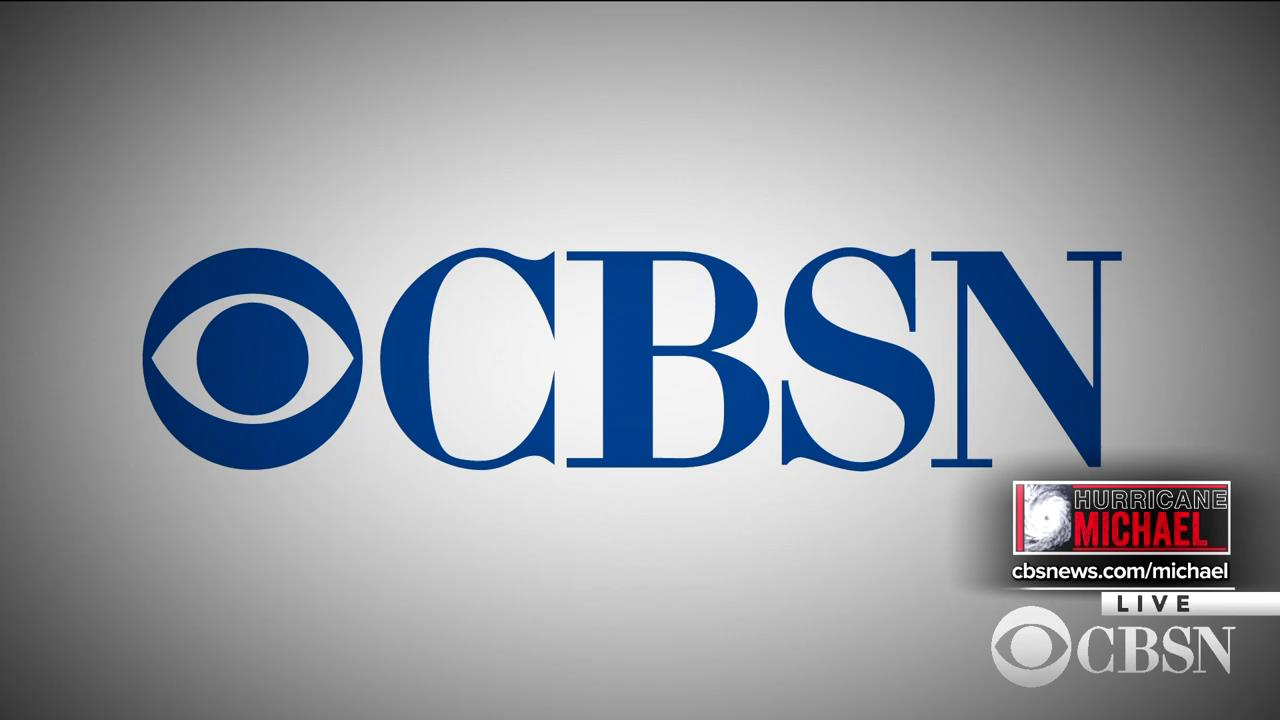CBSN: (377, 245, 1126, 474), (1076, 624, 1237, 677)
HURRICANE: (1071, 486, 1227, 511)
LIVE: (1116, 591, 1192, 614)
MICHAEL: (1072, 510, 1211, 550)
cbsnews.com/michael: (1011, 560, 1230, 581)
